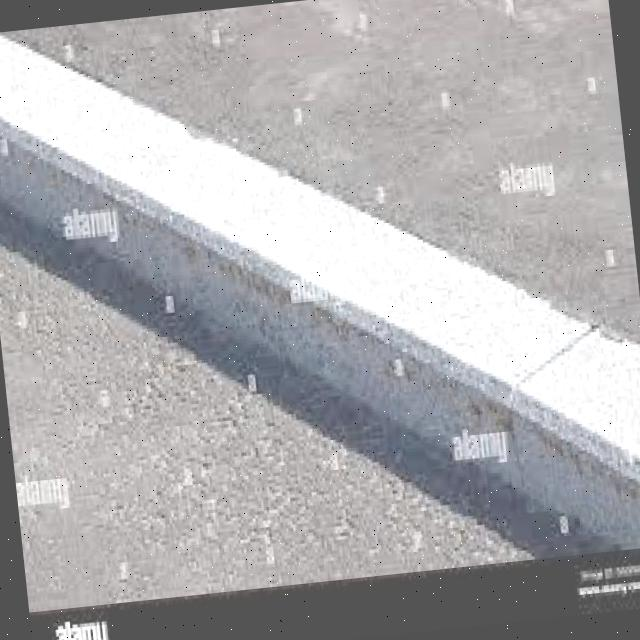curb: (264, 122, 640, 579), (1, 8, 266, 332)
